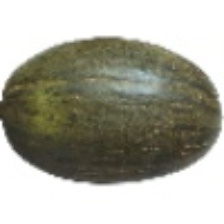honeydew: (6, 27, 179, 201)
